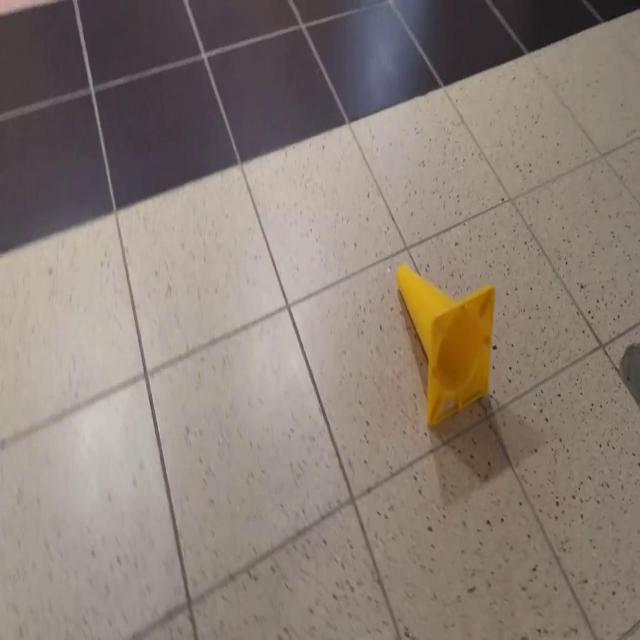frc_cone: (396, 263, 496, 429)
